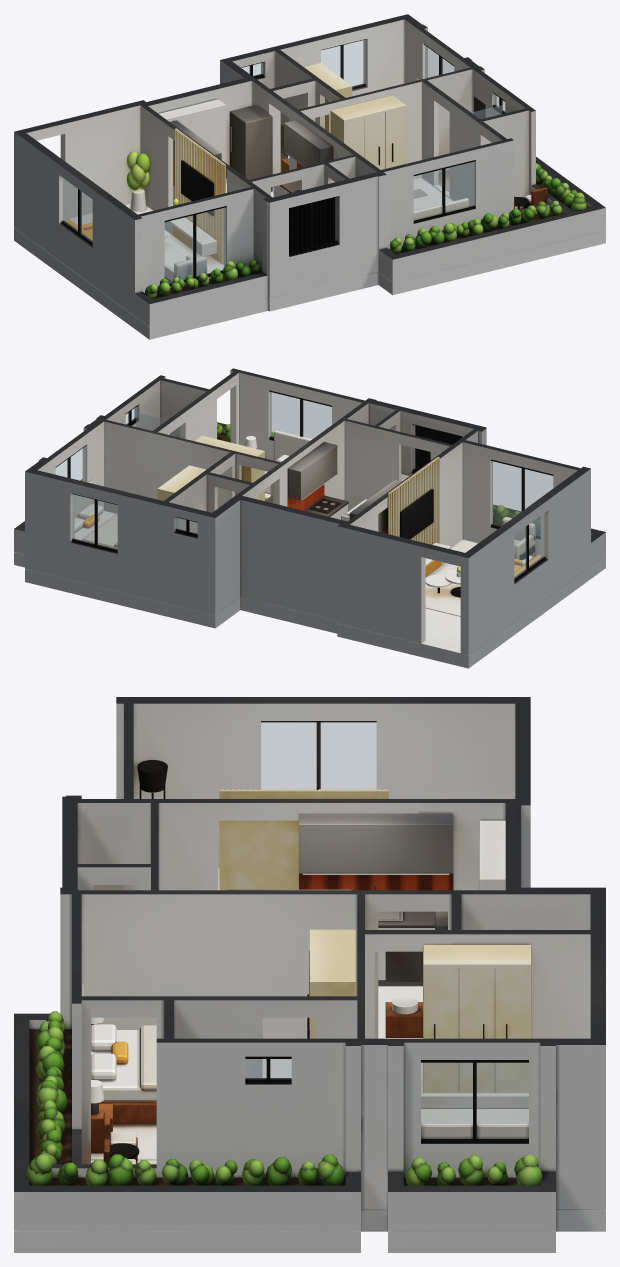
The model's file is interior_C.glb.
3 views of the same model, one above another, from view 1: azimuth 30°, elevation 25°; view 2: azimuth 150°, elevation 25°; view 3: azimuth 270°, elevation 25° (orthographic). The views are drawn at different scales.
Parts seen in each view (by area): view 1: interior_C, glass_C; view 2: interior_C, glass_C; view 3: interior_C, glass_C.
Part boxes in pixels (x1,y1,x2,y2): interior_C: (14, 14, 605, 339); glass_C: (63, 40, 504, 283); interior_C: (14, 368, 605, 668); glass_C: (56, 392, 552, 578); interior_C: (14, 697, 605, 1252); glass_C: (245, 722, 528, 1125).
Bounding box in the file's own units: 11.32 × 2.77 × 7.67.
Materials: 2 (1 with a texture image).
